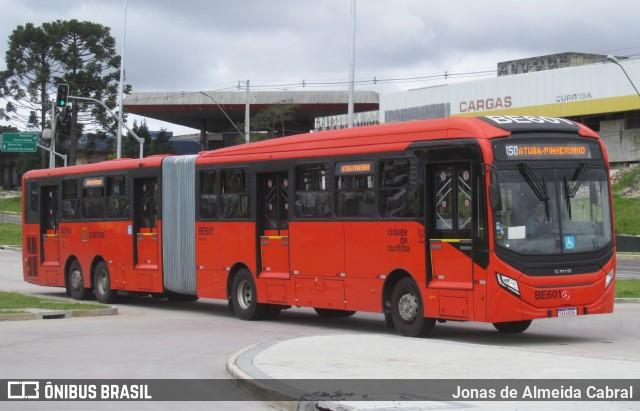ATUBA PINHEIRINHO: (517, 145, 587, 156)
